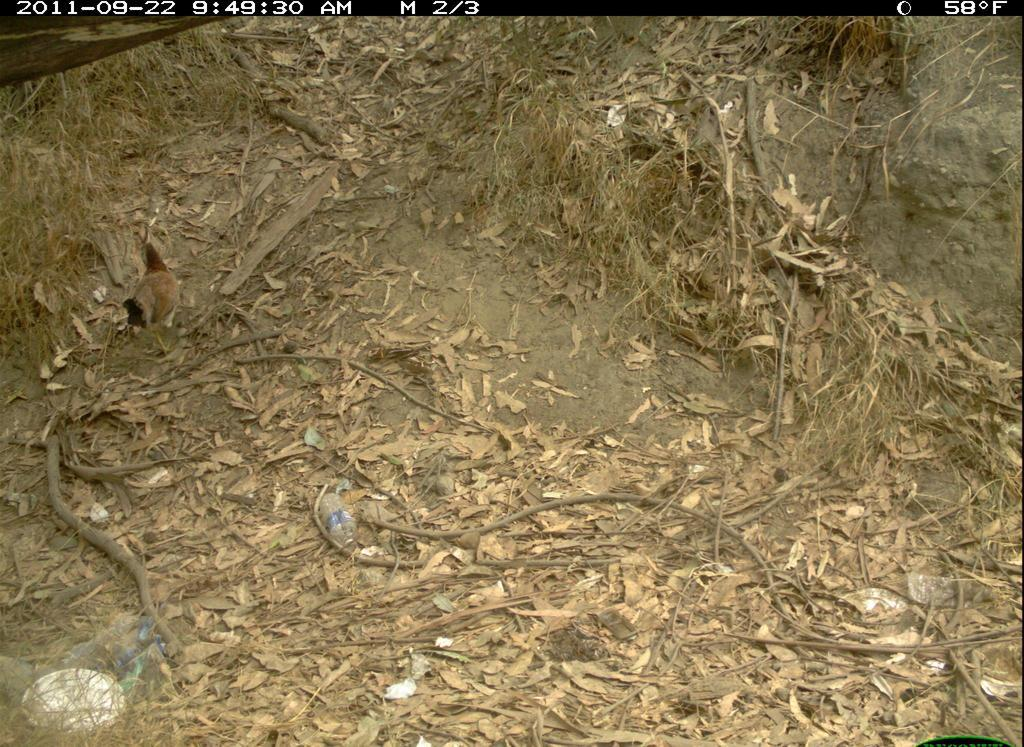bird: (121, 236, 185, 363)
